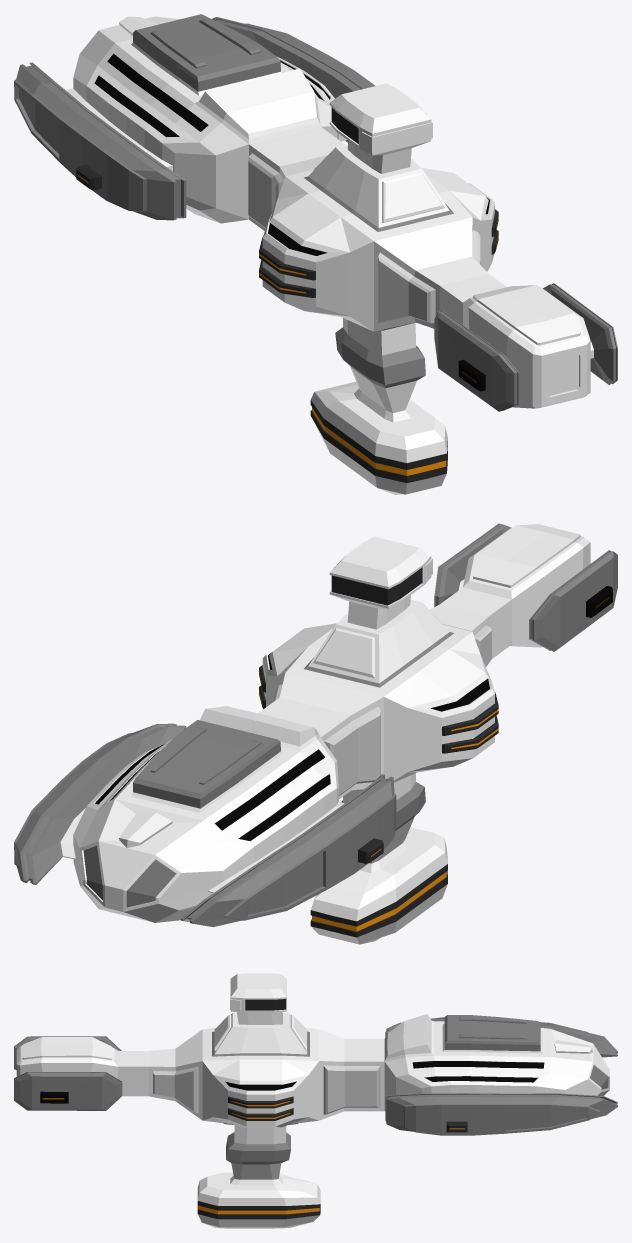
Rendered from spaceship.gltf.
3 views of the same model, one above another, from view 1: azimuth 30°, elevation 25°; view 2: azimuth 150°, elevation 25°; view 3: azimuth 270°, elevation 25° (orthographic). The views are drawn at different scales.
Visible parts, largest first — view 1: Cube; view 2: Cube; view 3: Cube.
Boxes of the visible parts, <box> form: Cube: <box>14,14,617,494</box>; Cube: <box>14,523,617,944</box>; Cube: <box>14,973,617,1228</box>.
Bounding box in the file's own units: 12.51 × 14.86 × 33.77.
Materials: 1 (1 with a texture image).
